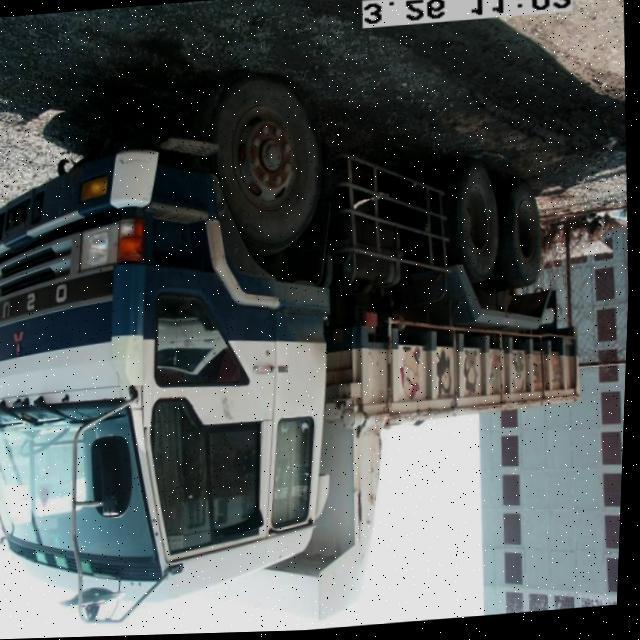truck: (0, 43, 602, 609)
